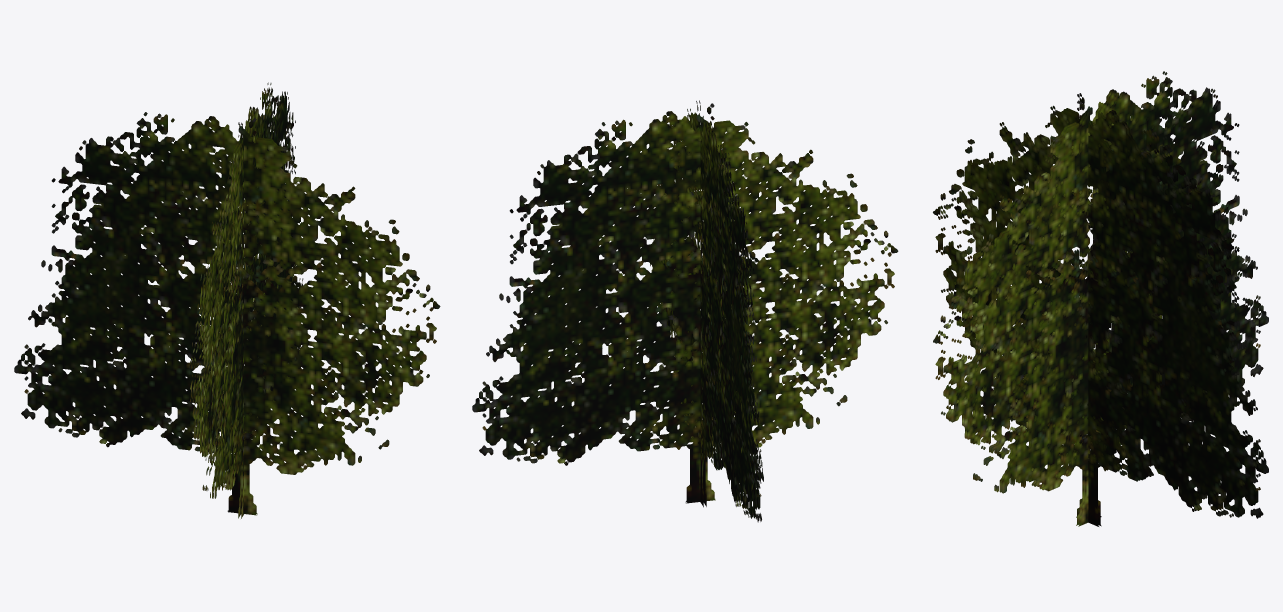
Rendered from tree099.fbx.
3 views of the same model, side by side, from view 1: azimuth 30°, elevation 25°; view 2: azimuth 150°, elevation 25°; view 3: azimuth 270°, elevation 25° (orthographic). The views are drawn at different scales.
Visible parts, largest first — view 1: tree099; view 2: tree099; view 3: tree099.
Part boxes in pixels (x1,y1,x2,y2): tree099: (14, 82, 440, 518); tree099: (472, 100, 898, 522); tree099: (933, 71, 1268, 526).
Size of the model in its own units: 296 by 400 by 278.
Materials: 1 (1 with a texture image).
